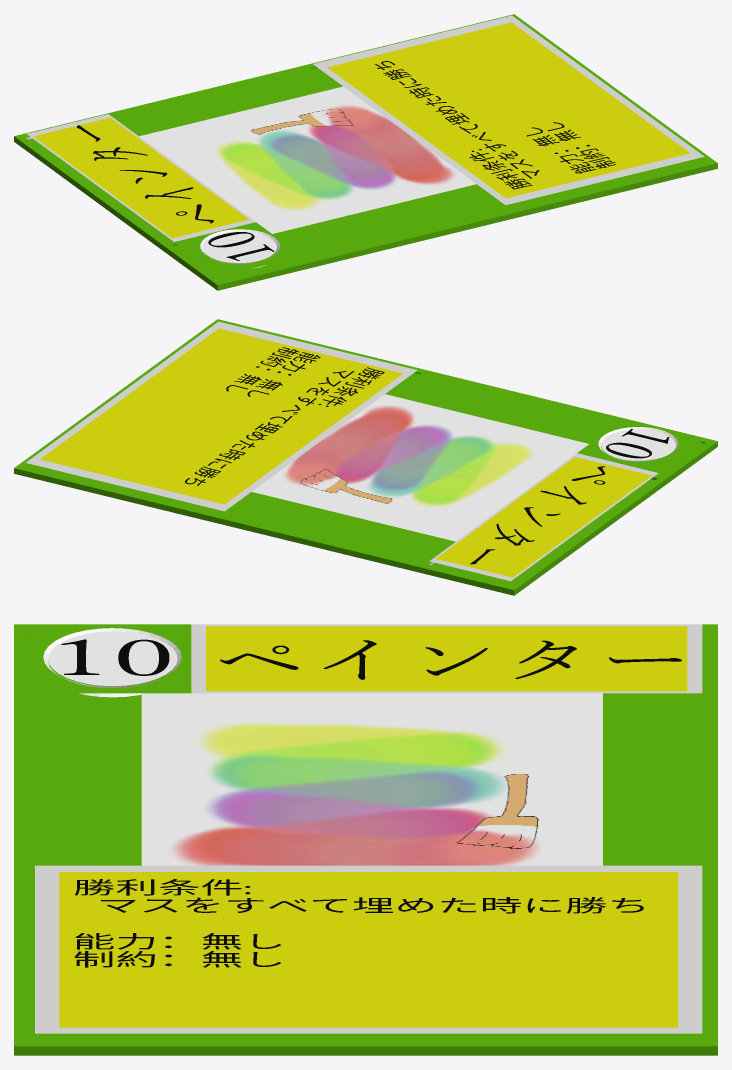
File: ペインター緑.fbx
The picture shows the model from 3 angles, top to bottom: view 1: azimuth 30°, elevation 25°; view 2: azimuth 150°, elevation 25°; view 3: azimuth 270°, elevation 25°; orthographic projection. The views are drawn at different scales.
Parts seen in each view (by area): view 1: 説明欄, 平面.001, カード本体.001, 名前欄, 説明文, 平面, 円, 名前, コスト; view 2: 説明欄, 平面.001, カード本体.001, 名前欄, 説明文, 平面, 円, 名前, コスト; view 3: 説明欄, 平面.001, カード本体.001, 名前欄, 説明文, 平面, 円, 名前, コスト蘭, コスト.
Part boxes in pixels (bbox=[...]): 説明欄: bbox=[313, 15, 704, 205]; 平面.001: bbox=[139, 86, 476, 233]; カード本体.001: bbox=[14, 14, 717, 290]; 名前欄: bbox=[27, 114, 255, 241]; 説明文: bbox=[375, 61, 615, 189]; 平面: bbox=[174, 222, 302, 275]; 円: bbox=[202, 231, 276, 262]; 名前: bbox=[77, 125, 213, 223]; コスト: bbox=[208, 232, 274, 260]; 説明欄: bbox=[26, 321, 417, 511]; 平面.001: bbox=[252, 394, 588, 541]; カード本体.001: bbox=[14, 319, 717, 595]; 名前欄: bbox=[429, 453, 658, 581]; 説明文: bbox=[185, 347, 384, 485]; 平面: bbox=[577, 419, 704, 472]; 円: bbox=[601, 429, 675, 460]; 名前: bbox=[470, 466, 605, 564]; コスト: bbox=[606, 429, 669, 458]; 説明欄: bbox=[35, 865, 702, 1033]; 平面.001: bbox=[141, 693, 602, 865]; カード本体.001: bbox=[14, 624, 717, 1055]; 名前欄: bbox=[191, 624, 702, 693]; 説明文: bbox=[74, 879, 643, 967]; 平面: bbox=[30, 624, 191, 693]; 円: bbox=[48, 631, 177, 686]; 名前: bbox=[220, 640, 681, 679]; コスト蘭: bbox=[43, 628, 181, 697]; コスト: bbox=[61, 639, 169, 675].
Size of the model in its own units: 281 by 6.07 by 198.
